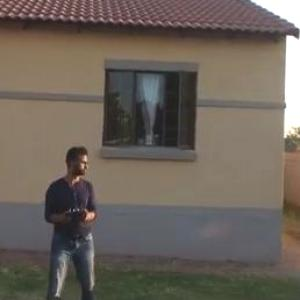follow: (39, 142, 102, 299)
